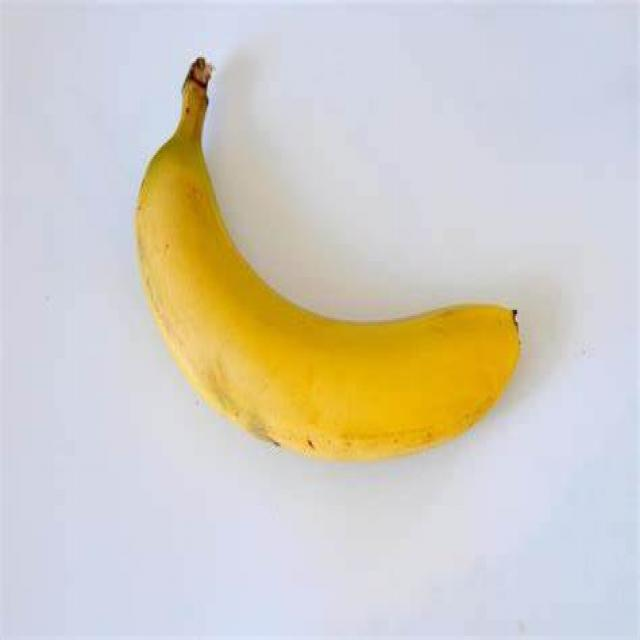Banana: (127, 63, 525, 446)
